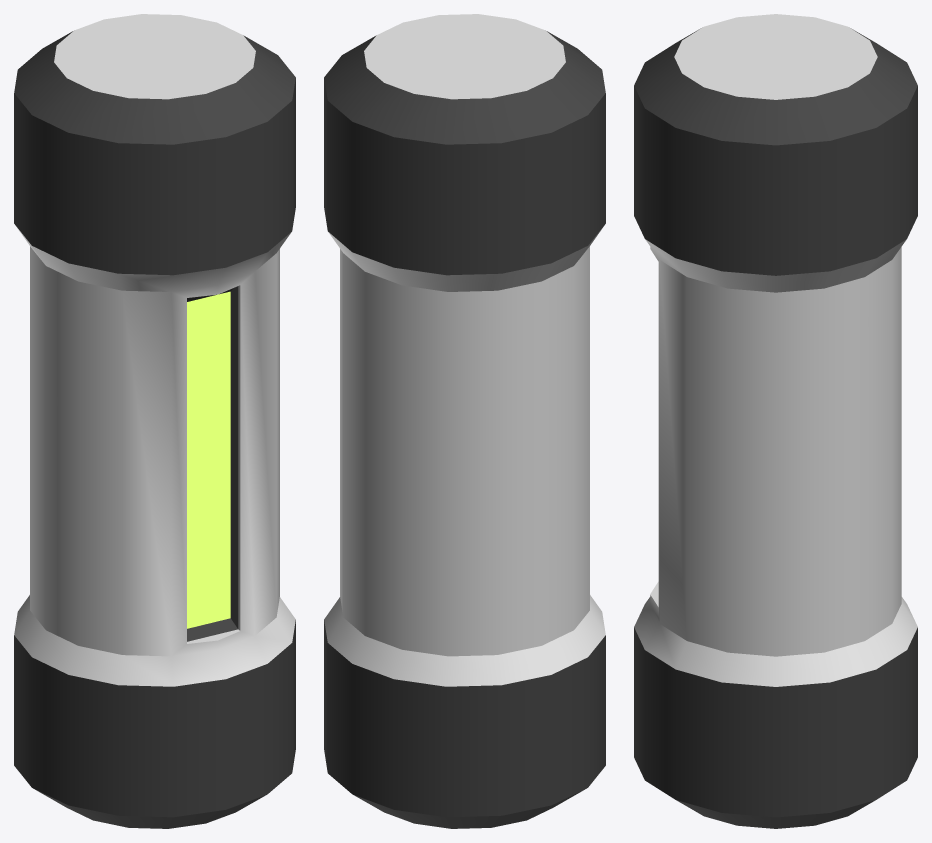
Rendered from Batería cargada.fbx.
3 views of the same model, side by side, from view 1: azimuth 30°, elevation 25°; view 2: azimuth 150°, elevation 25°; view 3: azimuth 270°, elevation 25° (orthographic).
Visible parts, largest first — view 1: Batería/Célula de energia; view 2: Batería/Célula de energia; view 3: Batería/Célula de energia.
Part boxes in pixels (left/top/right/bottom): Batería/Célula de energia: left=14, top=14, right=295, bottom=828; Batería/Célula de energia: left=324, top=14, right=605, bottom=828; Batería/Célula de energia: left=634, top=14, right=917, bottom=828.
Size of the model in its own units: 30.34 by 85.97 by 30.34.
